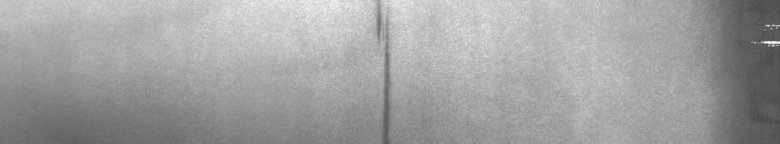hd: (372, 4, 396, 136)
